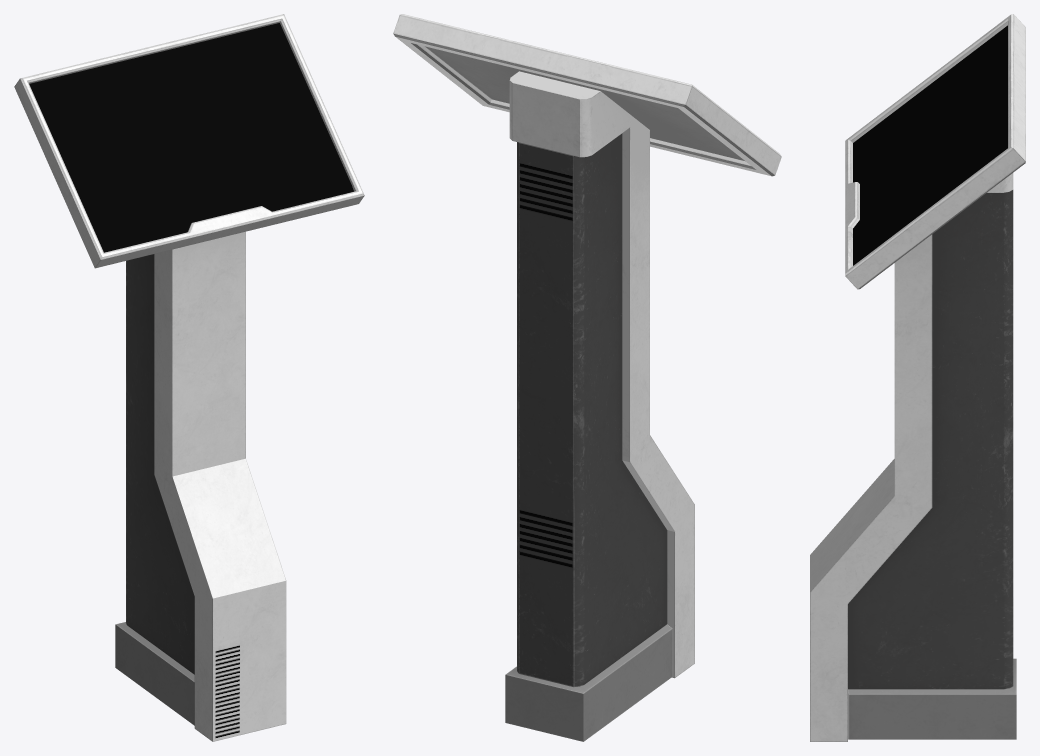
The model's file is Control_Panel.fbx.
3 views of the same model, side by side, from view 1: azimuth 30°, elevation 25°; view 2: azimuth 150°, elevation 25°; view 3: azimuth 270°, elevation 25° (orthographic). The views are drawn at different scales.
Visible parts, largest first — view 1: Control_Panel; view 2: Control_Panel; view 3: Control_Panel.
Boxes of the visible parts, bbox=[...] form: Control_Panel: bbox=[14, 14, 364, 741]; Control_Panel: bbox=[393, 14, 781, 741]; Control_Panel: bbox=[810, 14, 1025, 741].
Size of the model in its own units: 67.27 by 150 by 45.63.
Materials: 1 (1 with a texture image).
